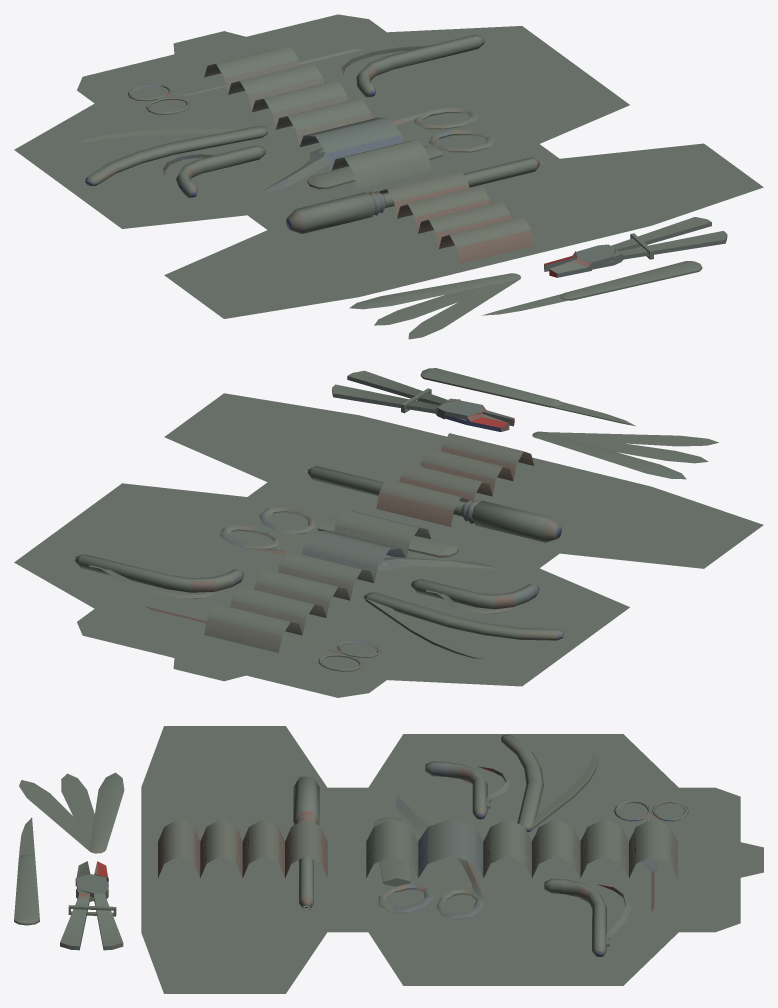
File: operating_tools.fbx
3 renders of one model, top to bottom at view 1: azimuth 30°, elevation 25°; view 2: azimuth 150°, elevation 25°; view 3: azimuth 270°, elevation 25°, orthographic.
Parts seen in each view (by area): view 1: tool_holster; view 2: tool_holster; view 3: tool_holster.
Boxes of the visible parts, x1=… form: tool_holster: x1=14, y1=14, x2=763, y2=339; tool_holster: x1=14, y1=368, x2=763, y2=697; tool_holster: x1=14, y1=726, x2=763, y2=993.
Bounding box in the file's own units: 34 × 1.35 × 40.24.
